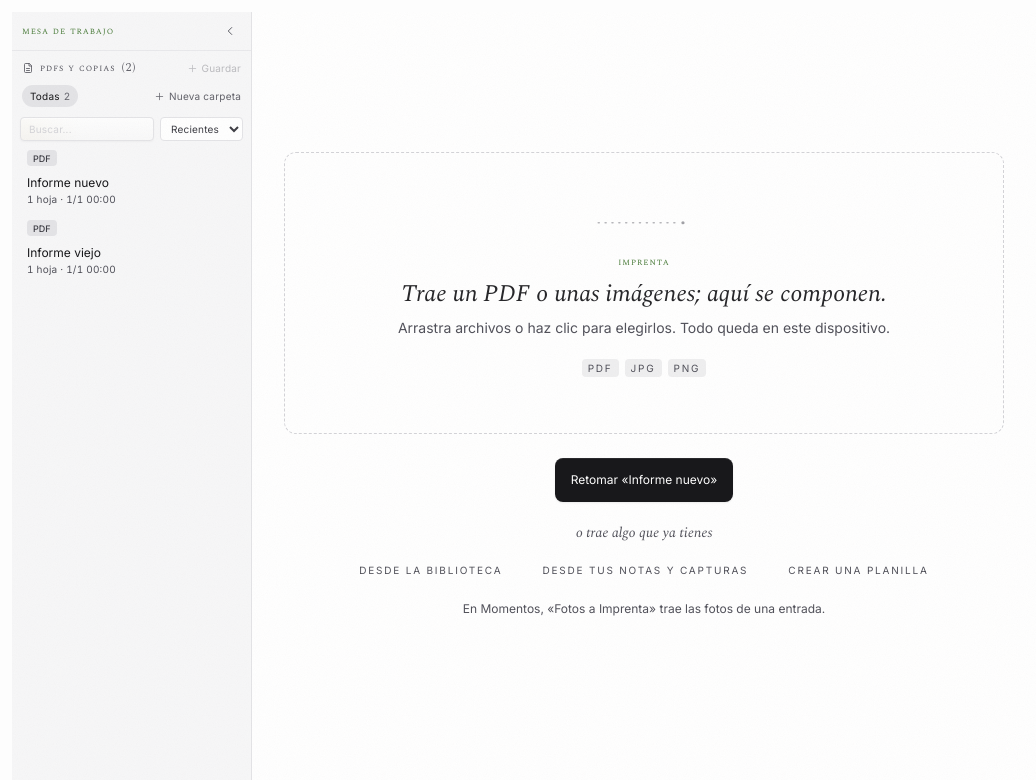
Test: <PdfStudioView /> › vacío, enseña sus caminos: secciones, guardados y retomar el último
Expected: the button "Retomar «Informe nuevo»" is shown, [555,458,733,502]
Click the button "Desde la Biblioteca".
click(431, 570)  # box [347,548,514,592]
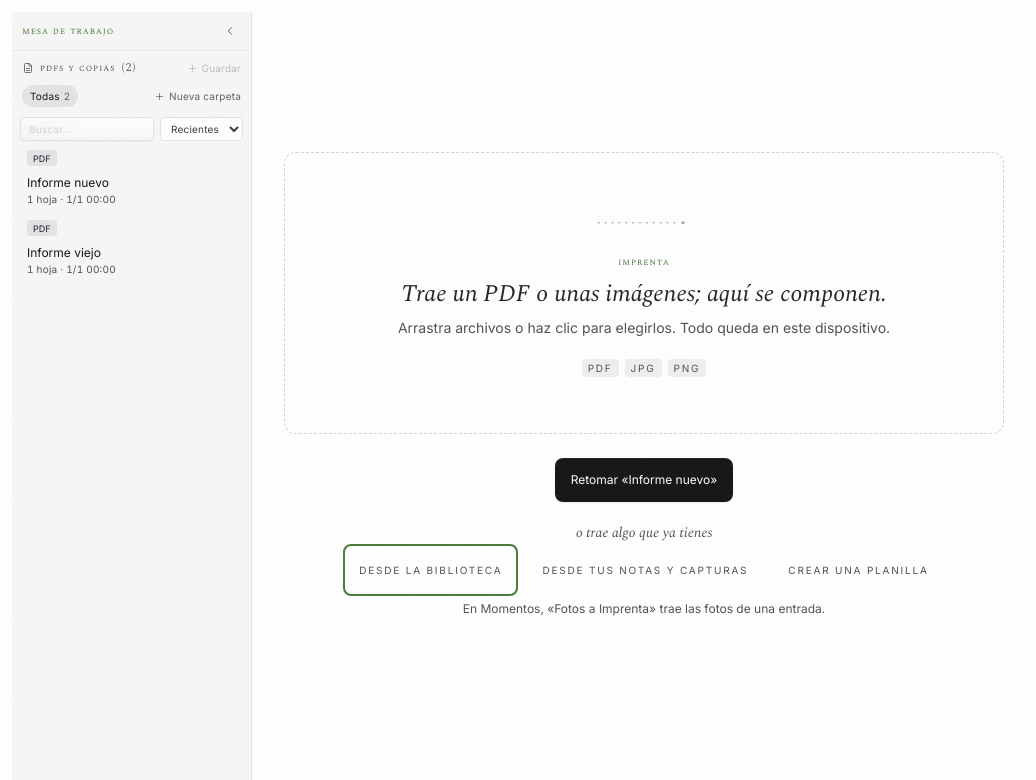
Expected: the text "mesa de trabajo" is shown, [22,22,114,40]
Expected: the button "Ver los" is not shown
Click the button named "Ocultar el panel".
click(230, 31)  # box [219,20,241,42]
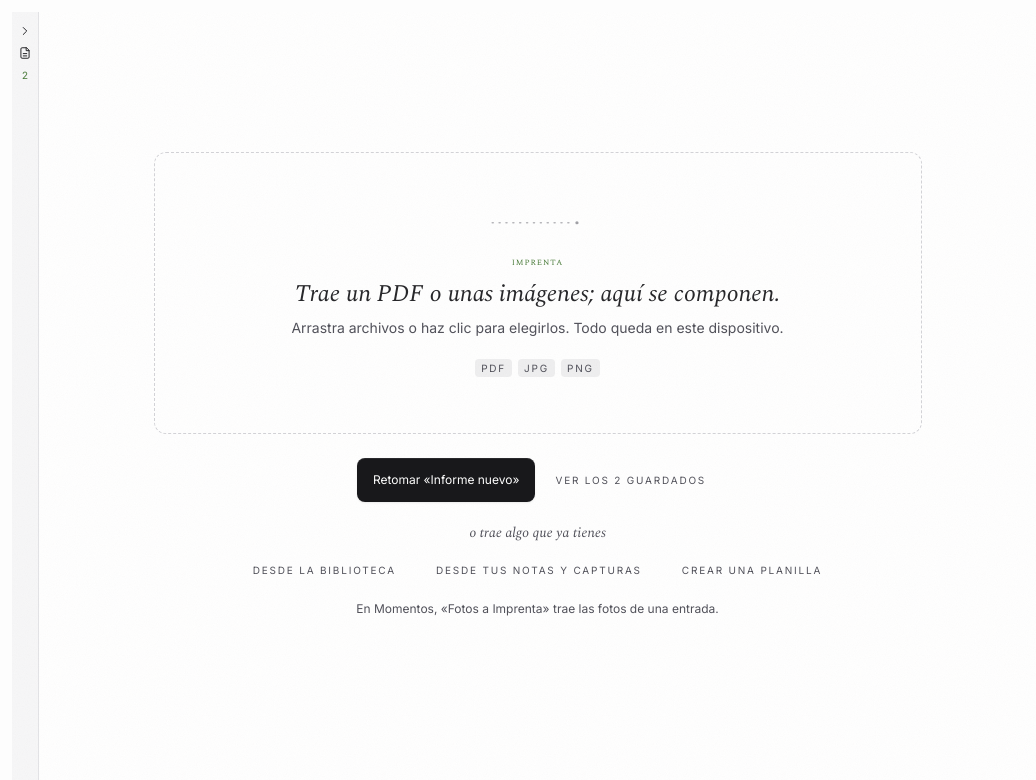
Click the button "Ver los 2 guardados".
click(631, 480)  # box [543,458,718,502]
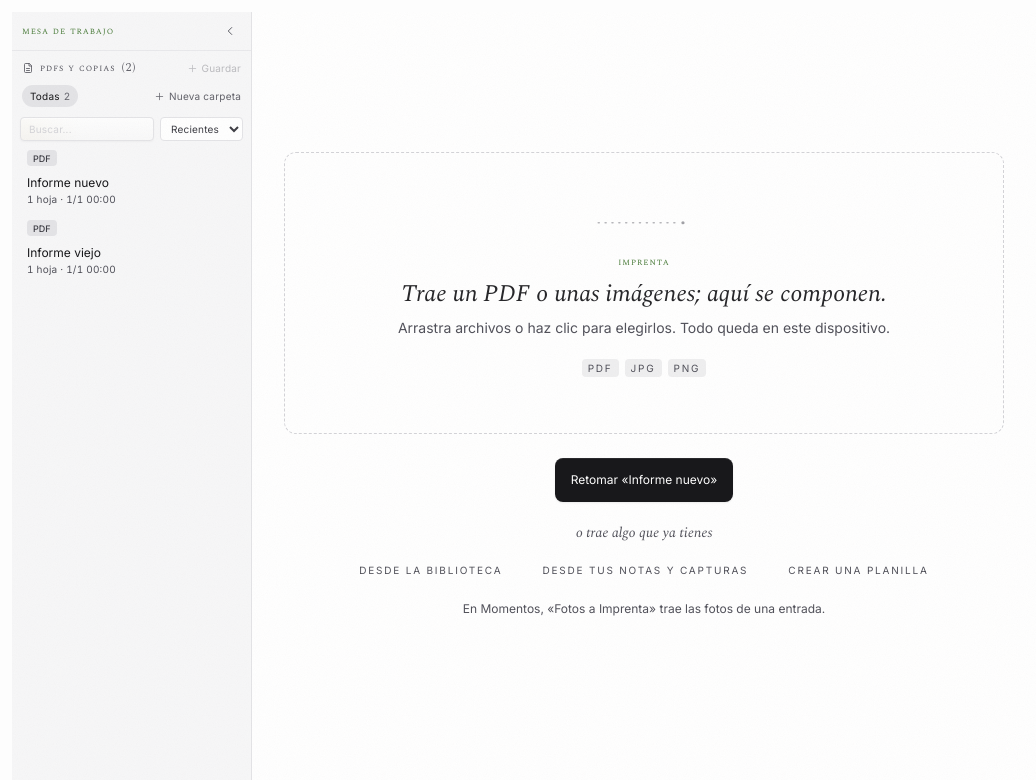
Result: the text "mesa de trabajo" is shown at [22,22,114,40]
Click the button "Retomar «Informe nuevo»".
click(644, 480)  # box [555,458,733,502]
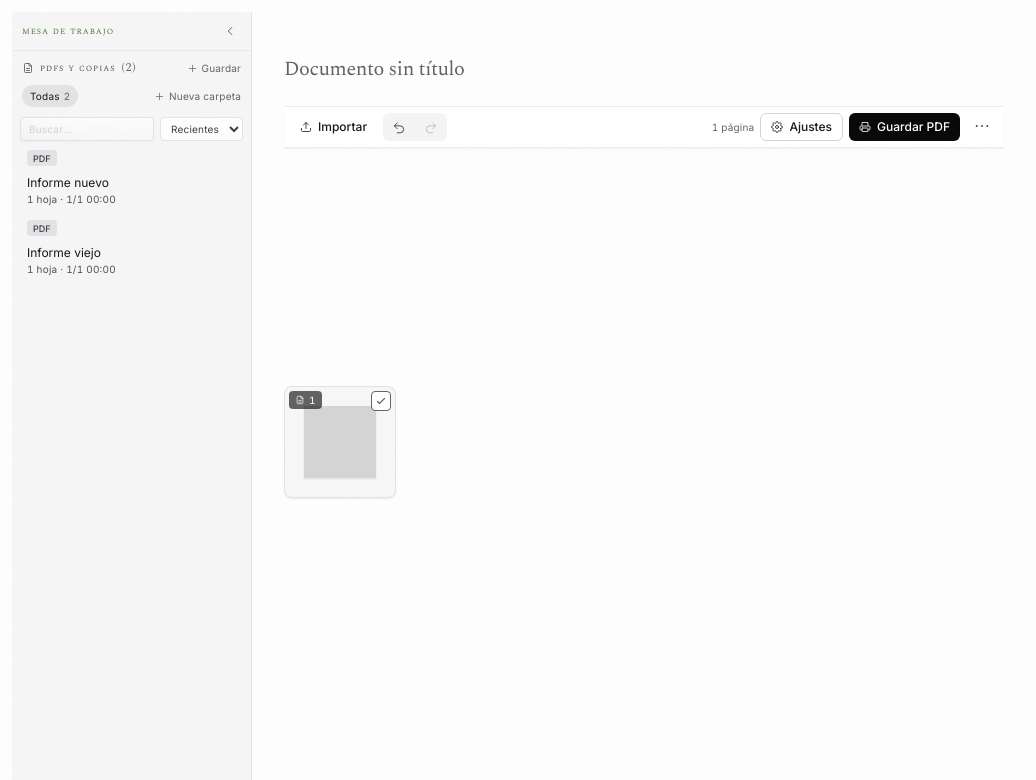
Result: the button "Trae un PDF o unas imágenes" is gone
